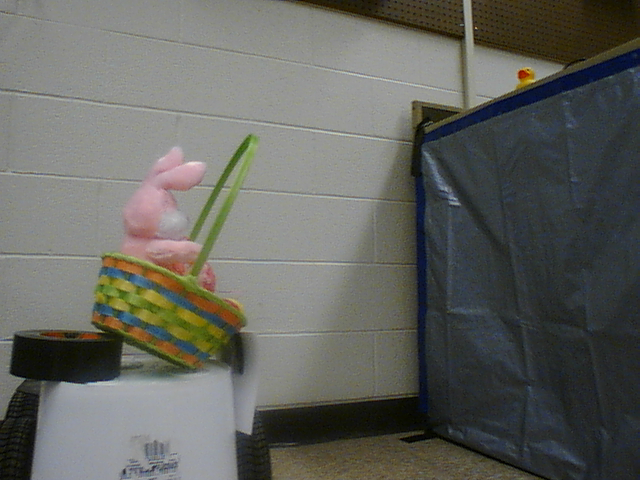bunny: (85, 131, 267, 374)
